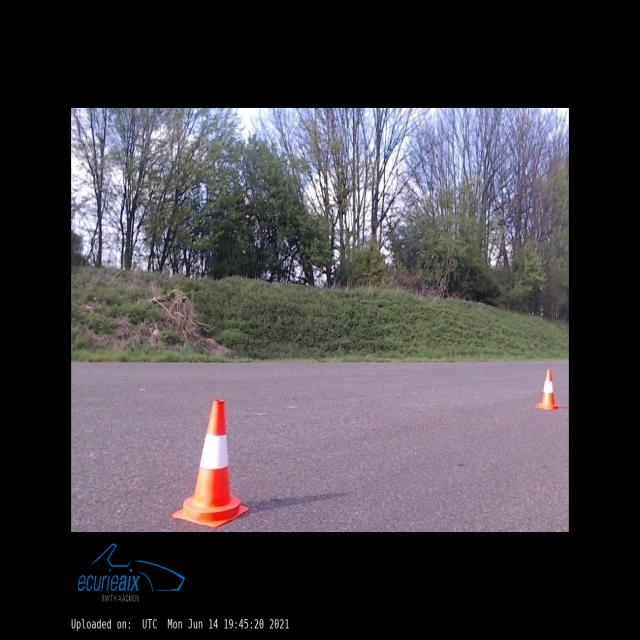orange_cone: (172, 399, 250, 526), (535, 370, 562, 410)
